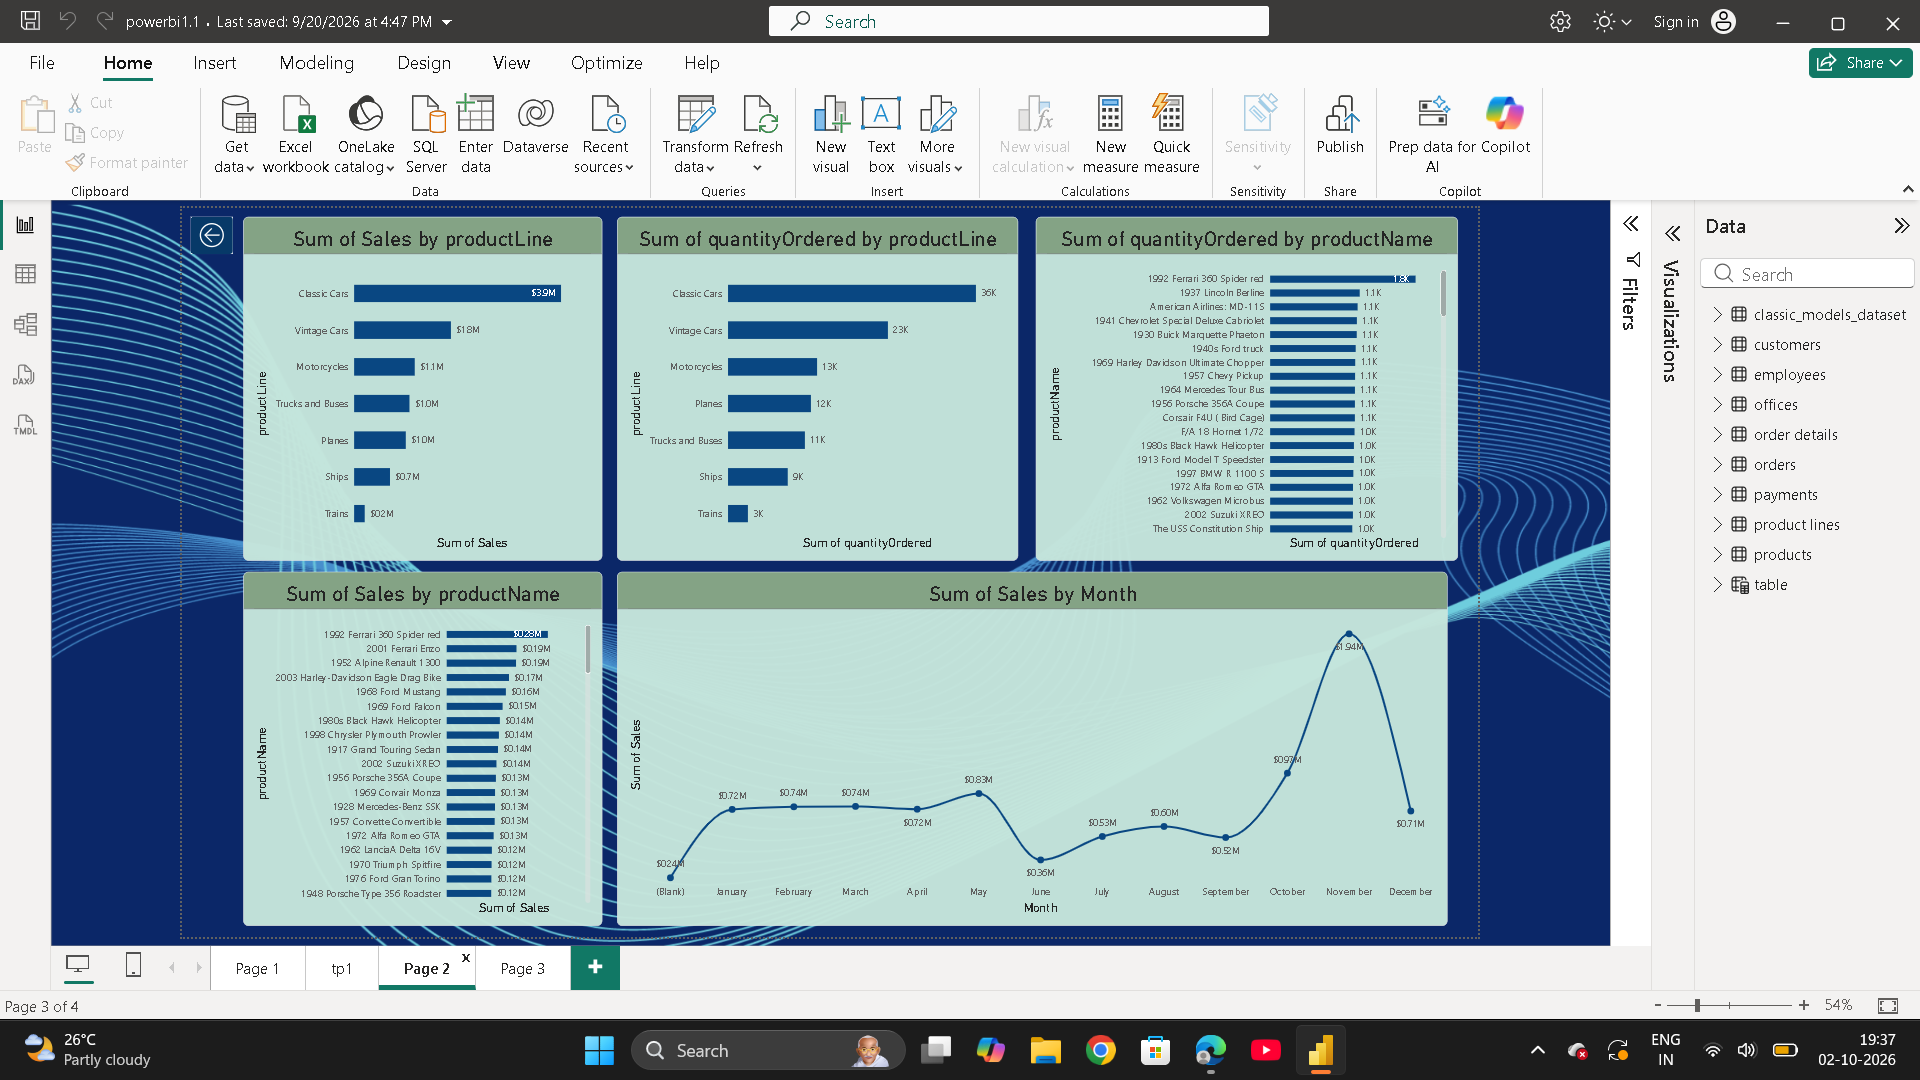

What the dashboard file says about the page in this screenshot:
{"tool":"powerbi","page":{"name":"Page 2","canvas":[1920,1080],"ordinal":2},"visuals":[{"type":"actionButton","box":[12.8,12.8,62.4,55],"z":0},{"type":"barChart","fields":{"Category":["product lines.productLine"],"Y":["Sum(order details.Sales)"]},"box":[89.9,12.8,531.9,509.9],"z":1000},{"type":"barChart","fields":{"Category":["product lines.productLine"],"Y":["Sum(order details.quantityOrdered)"]},"box":[643.8,12.8,594.3,509.9],"z":2000},{"type":"barChart","fields":{"Category":["products.productName"],"Y":["Sum(order details.quantityOrdered)"]},"box":[1265.6,12.8,625.5,509.9],"z":3000},{"type":"barChart","fields":{"Category":["products.productName"],"Y":["Sum(order details.Sales)"]},"box":[89.9,539.3,531.9,524.6],"z":4000},{"type":"lineChart","fields":{"Category":["orders.orderDate.Variation.Date Hierarchy.Year","orders.orderDate.Variation.Date Hierarchy.Quarter","orders.orderDate.Variation.Date Hierarchy.Month","orders.orderDate.Variation.Date Hierarchy.Day"],"Y":["Sum(order details.Sales)"]},"box":[643.8,539.3,1230.8,524.6],"z":5000}]}

Visuals, with their boxes on the page's 1920x1080 design canvas (x1, y1, x2, y2). These are canvas units, not pixel positions in the 1920x1080 screenshot, which may show the page scaled, cropped or inside an application window:
actionButton: bbox=(13, 13, 75, 68)
barChart - product lines.productLine x Sum(order details.Sales): bbox=(90, 13, 622, 523)
barChart - product lines.productLine x Sum(order details.quantityOrdered): bbox=(644, 13, 1238, 523)
barChart - products.productName x Sum(order details.quantityOrdered): bbox=(1266, 13, 1891, 523)
barChart - products.productName x Sum(order details.Sales): bbox=(90, 539, 622, 1064)
lineChart - orders.orderDate.Variation.Date Hierarchy.Year x orders.orderDate.Variation.Date Hierarchy.Quarter: bbox=(644, 539, 1875, 1064)
